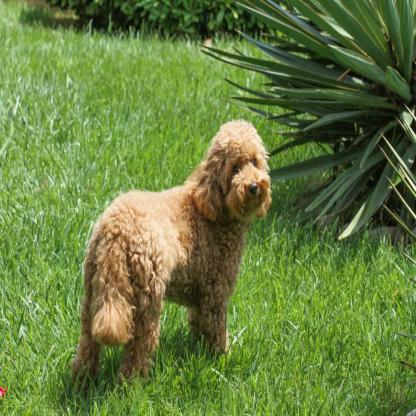Yorkipoo: (79, 116, 278, 380)
